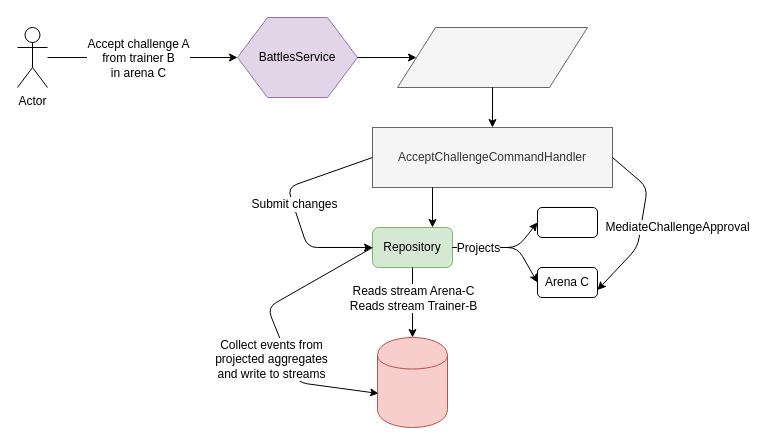
Some shapes in this 767 by 445 pixel diagram are drawn without their labels. Here are the shapes that lost their labels. From the top down, the centre of each, then its label:
At (x=492, y=57): "AcceptChallengeCommand".
At (x=567, y=222): "Trainer B".
At (x=412, y=382): "EventStore".
